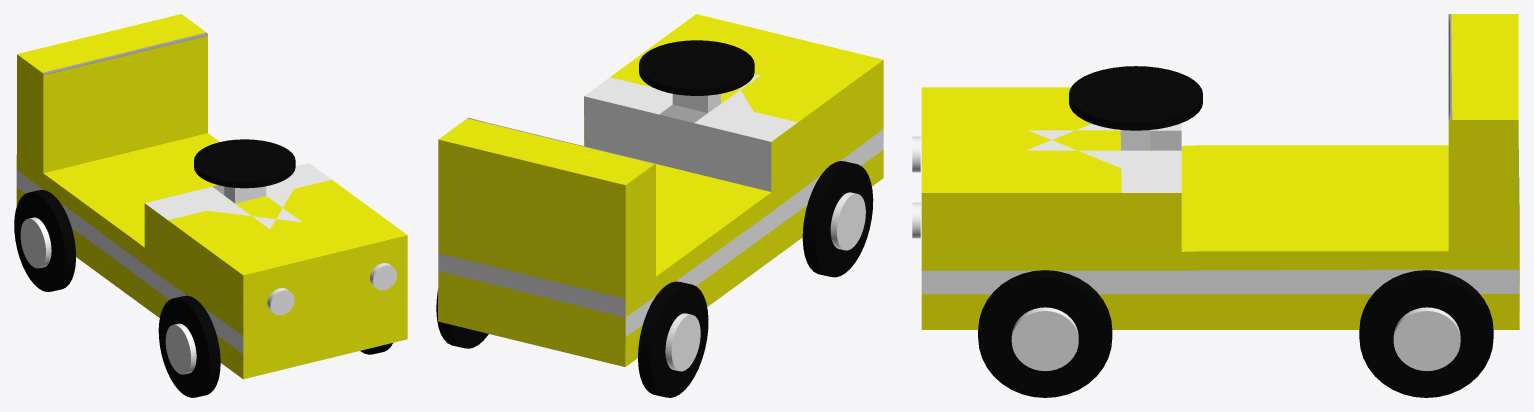
The model's file is Carrito_asset.fbx.
The picture shows the model from 3 angles, left to right: view 1: azimuth 30°, elevation 25°; view 2: azimuth 150°, elevation 25°; view 3: azimuth 270°, elevation 25°; orthographic projection. The views are drawn at different scales.
Parts seen in each view (by area): view 1: Carro, Volante, Llanta3, Llanta4, Rin4, Rin3, Foco3, Foco2; view 2: Carro, Volante, Llanta4, Llanta3, Rin3, Rin4, Llanta2; view 3: Carro, Llanta2, Llanta1, Volante, Rin1, Rin2.
Boxes of the visible parts, x1=… form: Carro: x1=16, y1=14, x2=407, y2=379; Volante: x1=194, y1=139, x2=295, y2=188; Llanta3: x1=158, y1=295, x2=220, y2=397; Llanta4: x1=14, y1=190, x2=75, y2=291; Rin4: x1=165, y1=323, x2=196, y2=374; Rin3: x1=20, y1=217, x2=51, y2=268; Foco3: x1=267, y1=288, x2=294, y2=315; Foco2: x1=370, y1=263, x2=397, y2=290; Carro: x1=438, y1=14, x2=883, y2=366; Volante: x1=639, y1=40, x2=754, y2=95; Llanta4: x1=638, y1=281, x2=708, y2=397; Llanta3: x1=802, y1=161, x2=873, y2=277; Rin3: x1=665, y1=313, x2=700, y2=371; Rin4: x1=830, y1=192, x2=865, y2=250; Llanta2: x1=436, y1=291, x2=488, y2=348; Carro: x1=921, y1=14, x2=1519, y2=329; Llanta2: x1=1359, y1=270, x2=1493, y2=397; Llanta1: x1=978, y1=270, x2=1112, y2=397; Volante: x1=1069, y1=66, x2=1202, y2=130; Rin1: x1=1011, y1=307, x2=1078, y2=371; Rin2: x1=1393, y1=307, x2=1460, y2=371.
Bounding box in the file's own units: 1.82 × 1.78 × 3.62.
